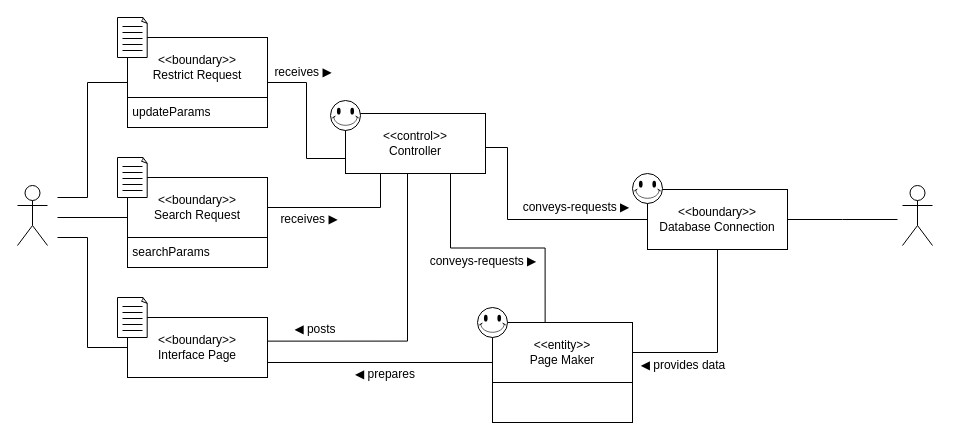
Some shapes in this 960 by 440 pixel diagram are drawn without their labels. Here are the shapes that lost their labels. From the top down, the centre of each, then its label:
point (32, 215): User
point (917, 215): Database
point (562, 402): searchParams requestResults
